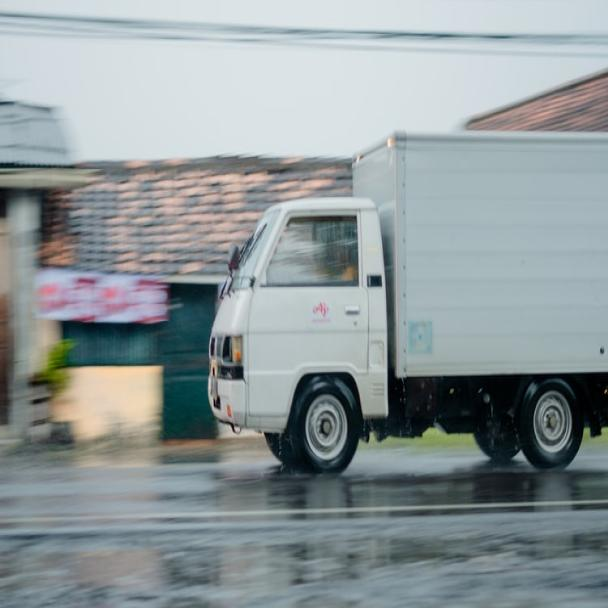Mobil: (208, 132, 608, 473)
